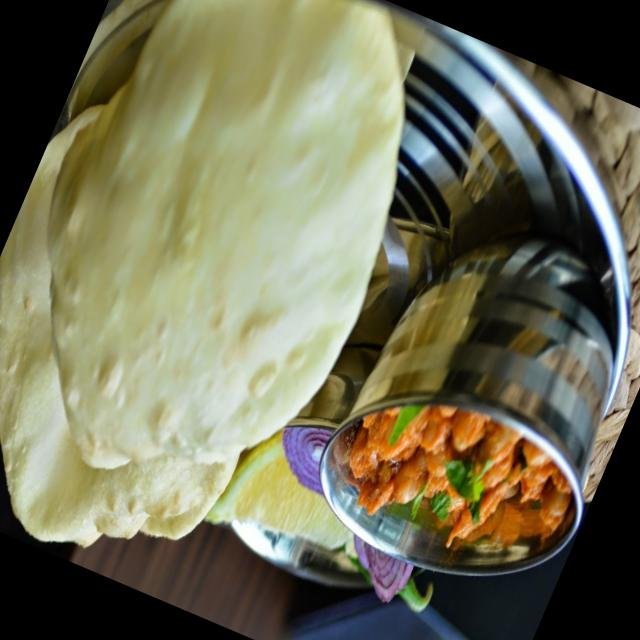Bhatura: (0, 0, 473, 622)
Chole: (318, 358, 593, 604)
